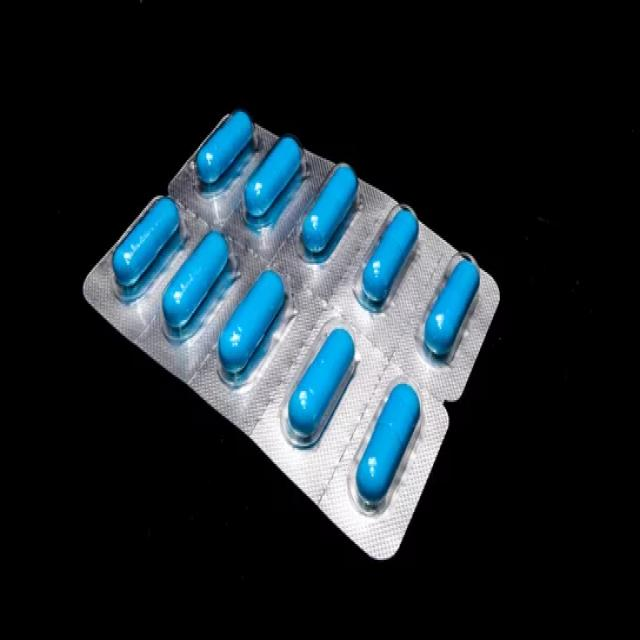Pill: (261, 299, 376, 464), (336, 361, 438, 528), (200, 256, 306, 408), (148, 216, 250, 347), (102, 178, 199, 305), (342, 193, 432, 328), (405, 243, 490, 383), (287, 150, 373, 272), (232, 124, 319, 232), (186, 97, 268, 201)
